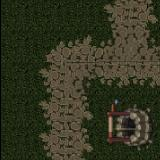Hide: (84, 83, 160, 160)
